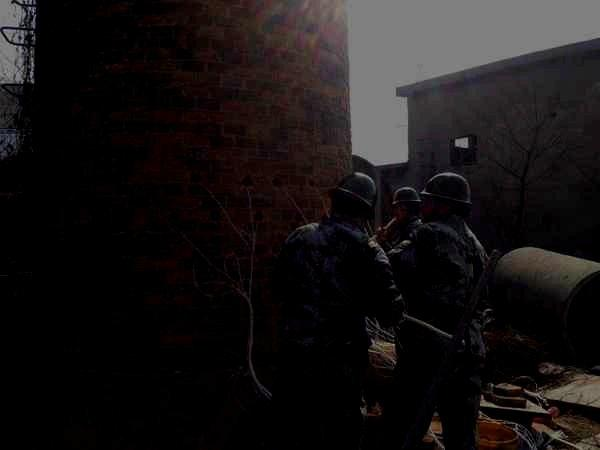helmet: (325, 171, 377, 228), (420, 172, 472, 224), (391, 186, 421, 224)
